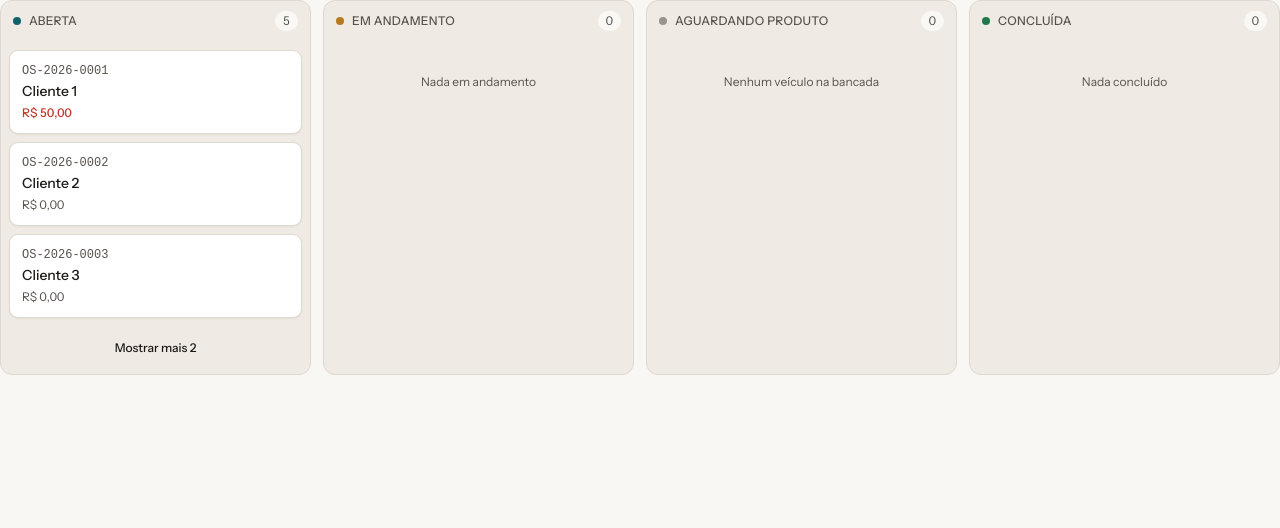
<QuadroOrdens> › limita a 3 cards e revela o resto com "Mostrar mais"
The image size is (1280, 528).
Expected: the text "Cliente 1" is shown, [22,82,77,100]
Expected: the text "Cliente 3" is shown, [22,266,80,284]
Click the button "Mostrar mais 2": (156,348) [9,330,302,366]
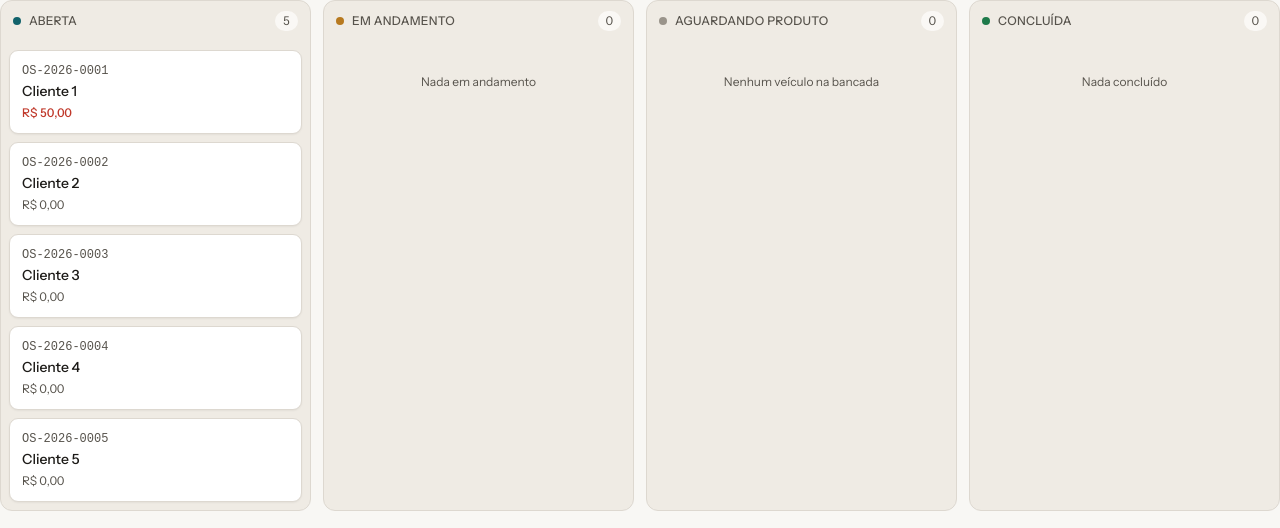
Expected: the text "Cliente 4" is shown, [22,358,80,376]
Expected: the text "Cliente 5" is shown, [22,450,80,468]
